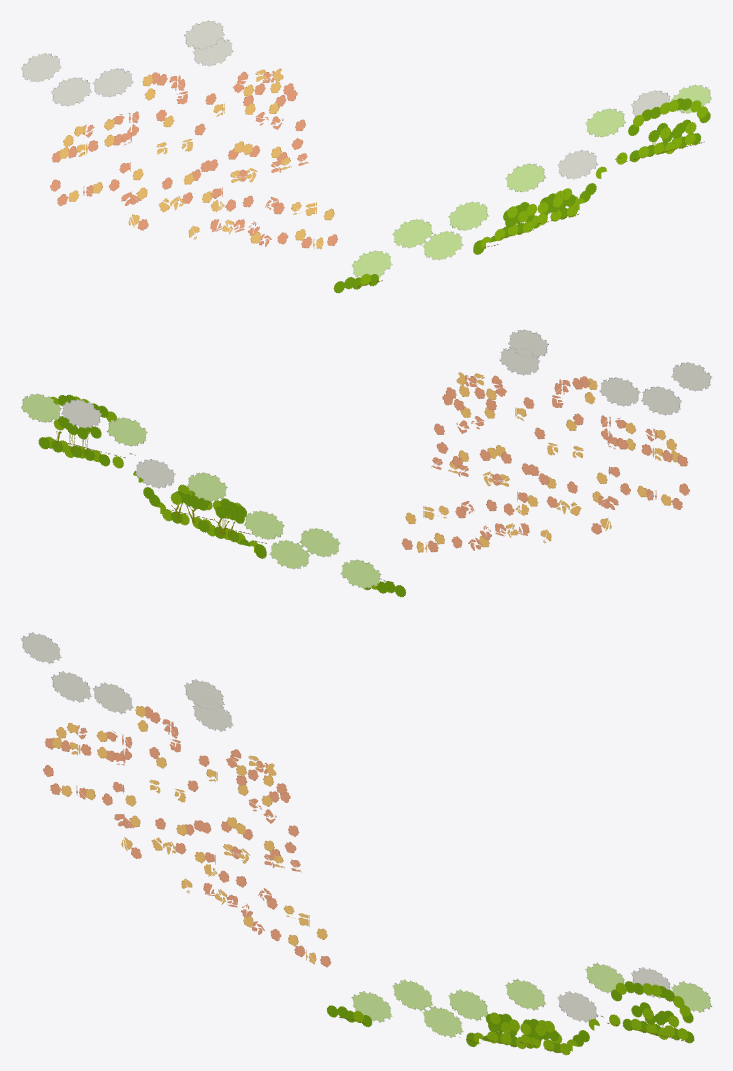
Rendered from tainai03_bg.glb.
3 renders of one model, top to bottom at view 1: azimuth 30°, elevation 25°; view 2: azimuth 150°, elevation 25°; view 3: azimuth 330°, elevation 25°, orthographic.
Visible parts, largest first — view 1: tainai03_bg; view 2: tainai03_bg; view 3: tainai03_bg.
Part boxes in pixels (x1,y1,x2,y2): tainai03_bg: (21,20,711,293); tainai03_bg: (21,329,712,597); tainai03_bg: (21,632,712,1055).
Bounding box in the file's own units: 6133 × 2583 × 136.
11 materials, 11 textured.
